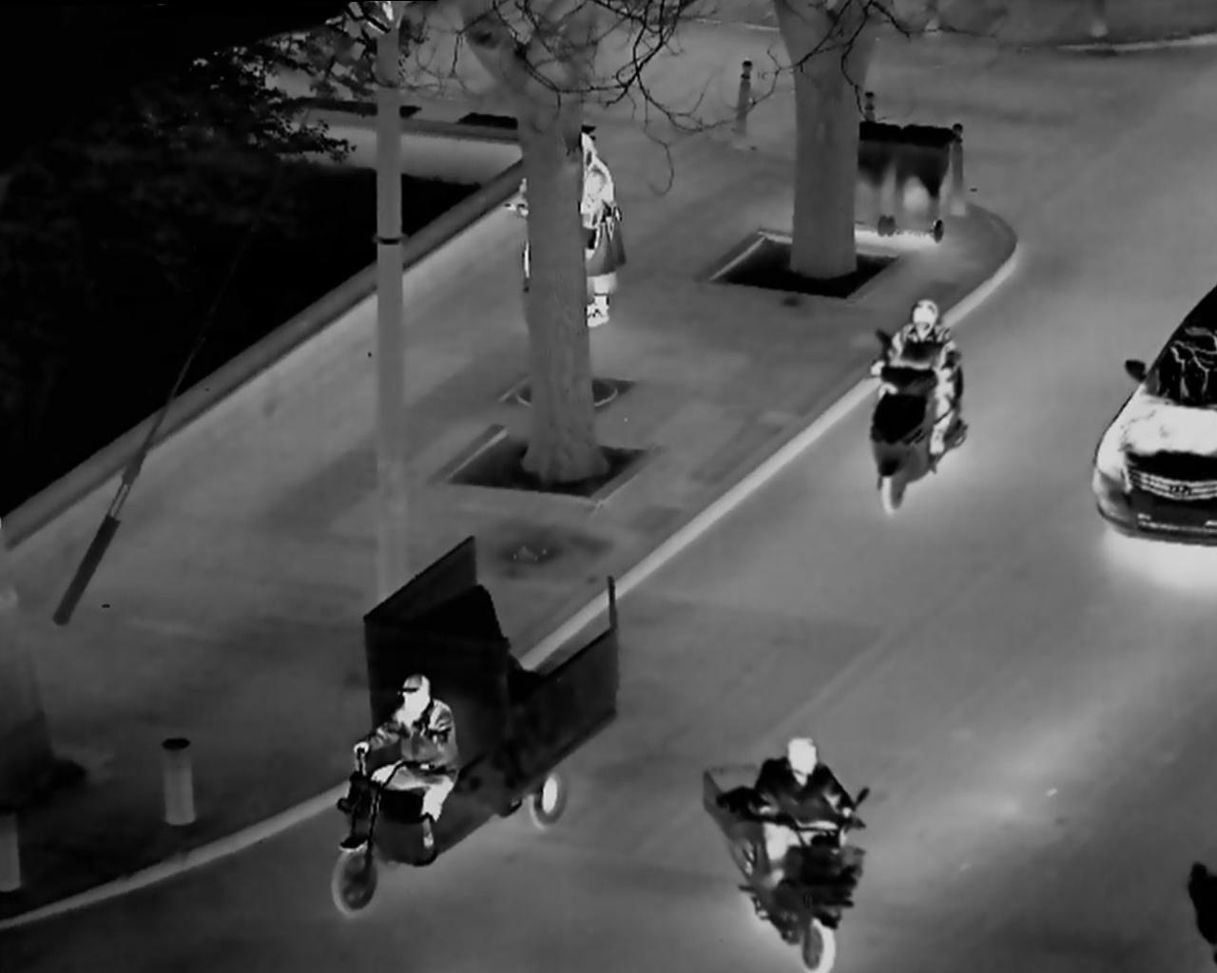person: (707, 717, 879, 955), (855, 289, 980, 521), (337, 658, 473, 871), (555, 121, 650, 323)
